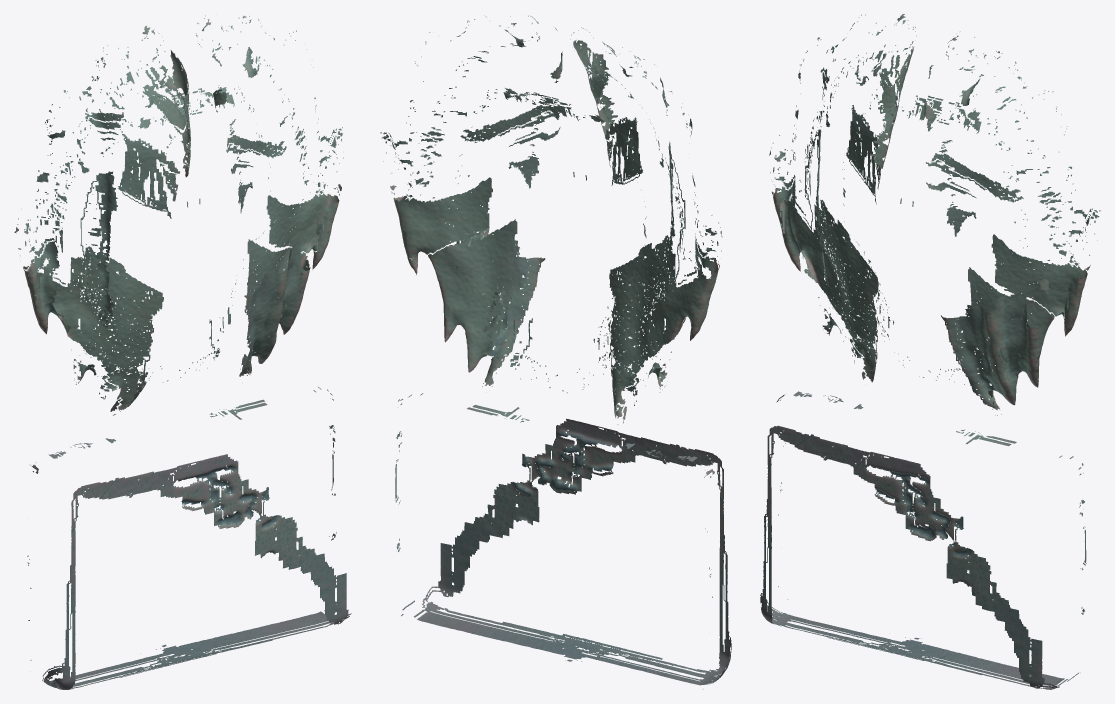
The model's file is cthulhu17_material_0.011_lev1.glb.
3 renders of one model, left to right at view 1: azimuth 30°, elevation 25°; view 2: azimuth 150°, elevation 25°; view 3: azimuth 330°, elevation 25°, orthographic. The views are drawn at different scales.
Parts seen in each view (by area): view 1: cthulhu17_material_0.011_lev1; view 2: cthulhu17_material_0.011_lev1; view 3: cthulhu17_material_0.011_lev1.
Part boxes in pixels (x1,y1,x2,y2): cthulhu17_material_0.011_lev1: (14, 15, 351, 689); cthulhu17_material_0.011_lev1: (380, 15, 731, 685); cthulhu17_material_0.011_lev1: (760, 14, 1100, 689).
Bounding box in the file's own units: 2.67 × 4.81 × 0.5216.
